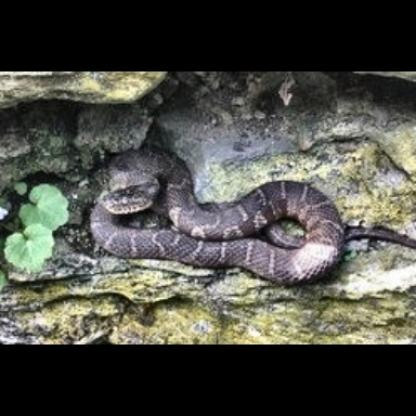Snake: (89, 150, 348, 286)
